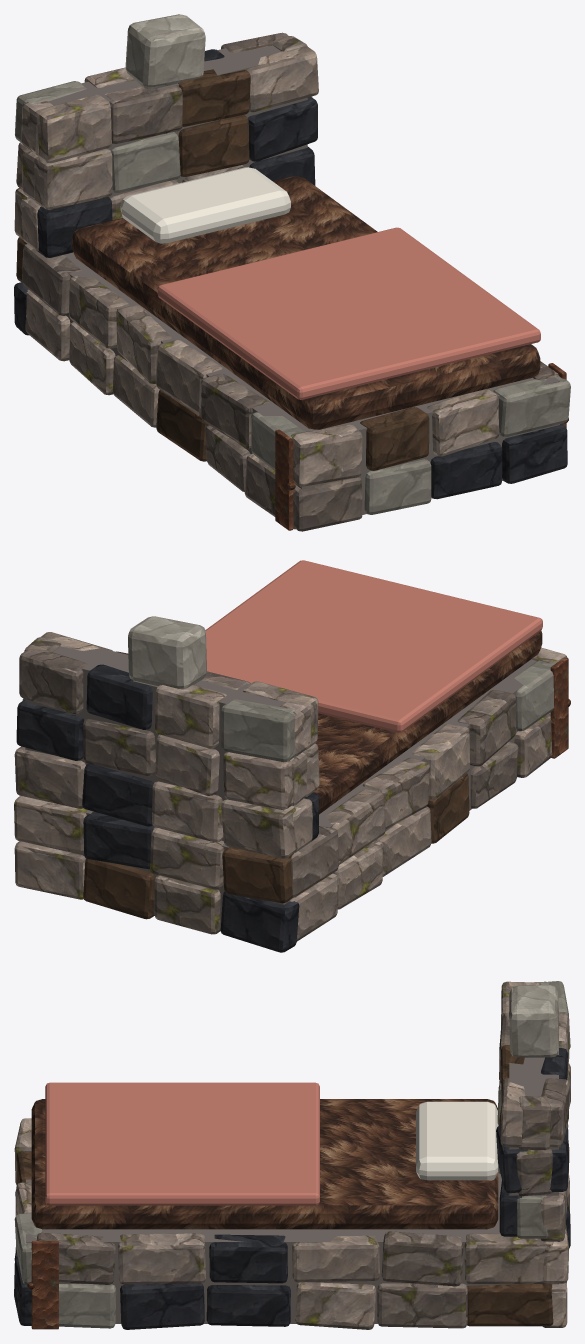
Rendered from stone_bed.glb.
3 renders of one model, top to bottom at view 1: azimuth 30°, elevation 25°; view 2: azimuth 150°, elevation 25°; view 3: azimuth 270°, elevation 25°, orthographic. The views are drawn at different scales.
Parts seen in each view (by area): view 1: model; view 2: model; view 3: model.
Boxes of the visible parts, x1,y1,x2,y2 form: model: (14, 14, 570, 531); model: (14, 560, 570, 952); model: (14, 981, 570, 1329).
Size of the model in its own units: 1.13 by 1.09 by 2.03.
13 materials, 10 textured.
